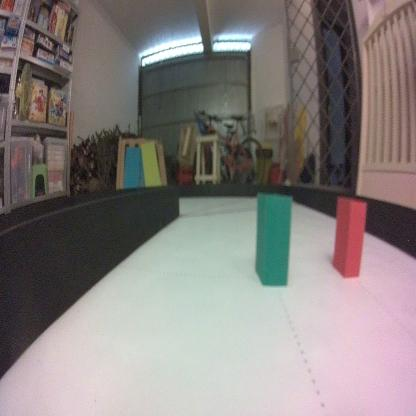green: (254, 186, 292, 290)
red: (330, 195, 368, 280)
